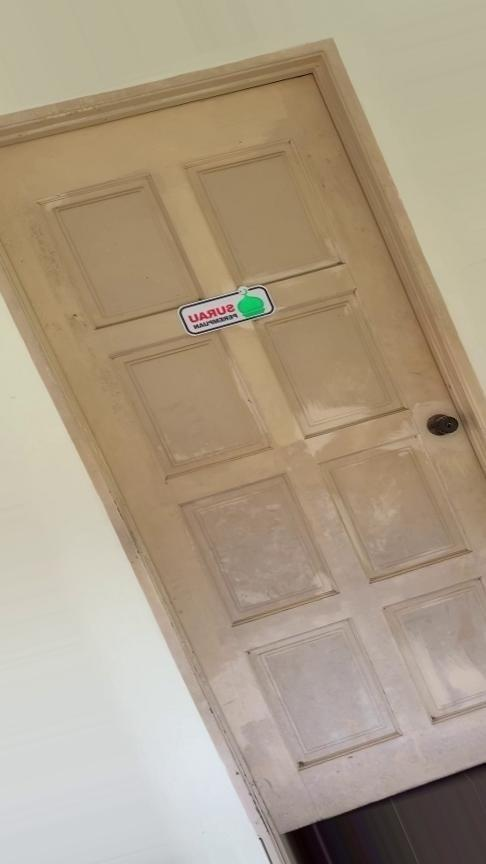door: (0, 42, 485, 864)
